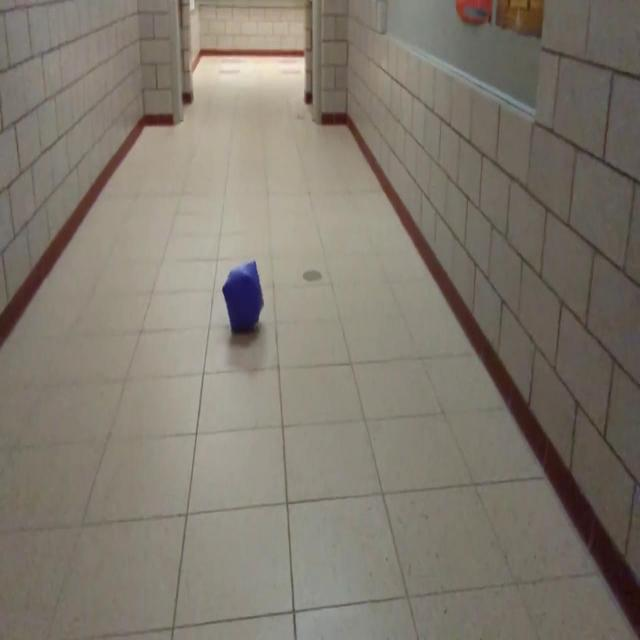frc_cube: (220, 257, 266, 334)
